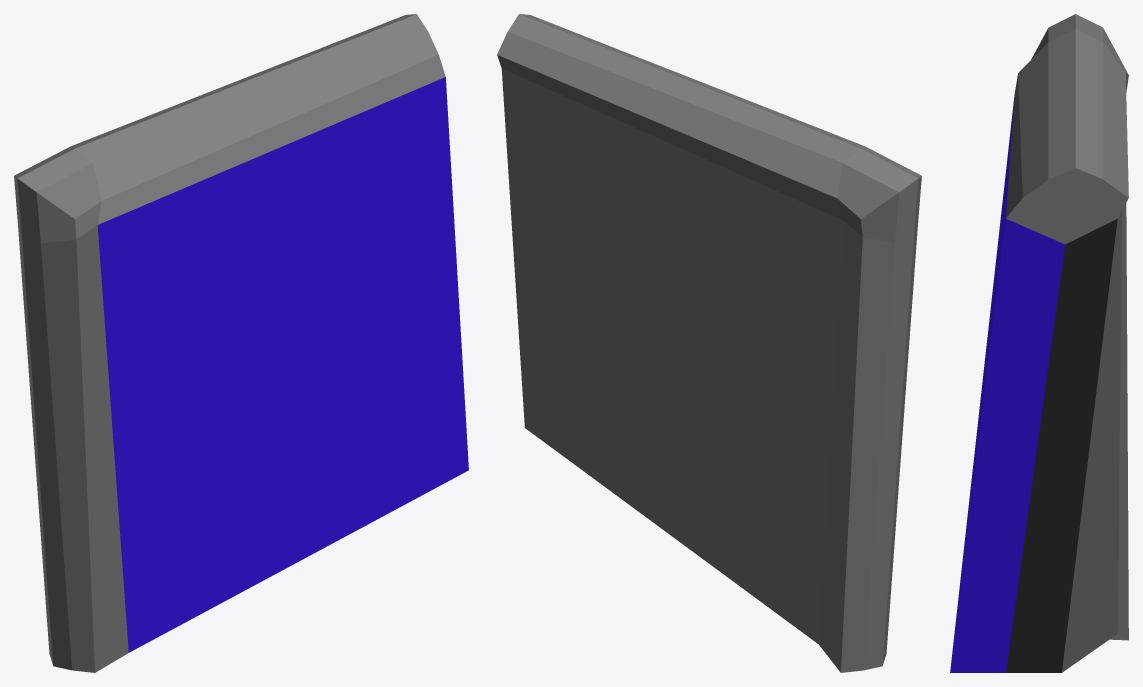
Rendered from ArmorLU.fbx.
3 renders of one model, left to right at view 1: azimuth 30°, elevation 25°; view 2: azimuth 150°, elevation 25°; view 3: azimuth 270°, elevation 25°, orthographic. The views are drawn at different scales.
Parts seen in each view (by area): view 1: Armor.LU; view 2: Armor.LU; view 3: Armor.LU.
Boxes of the visible parts, <box> form: Armor.LU: <box>14,14,468,672</box>; Armor.LU: <box>497,14,921,672</box>; Armor.LU: <box>950,14,1128,672</box>.
Bounding box in the file's own units: 19.92 × 26.86 × 6.4.
